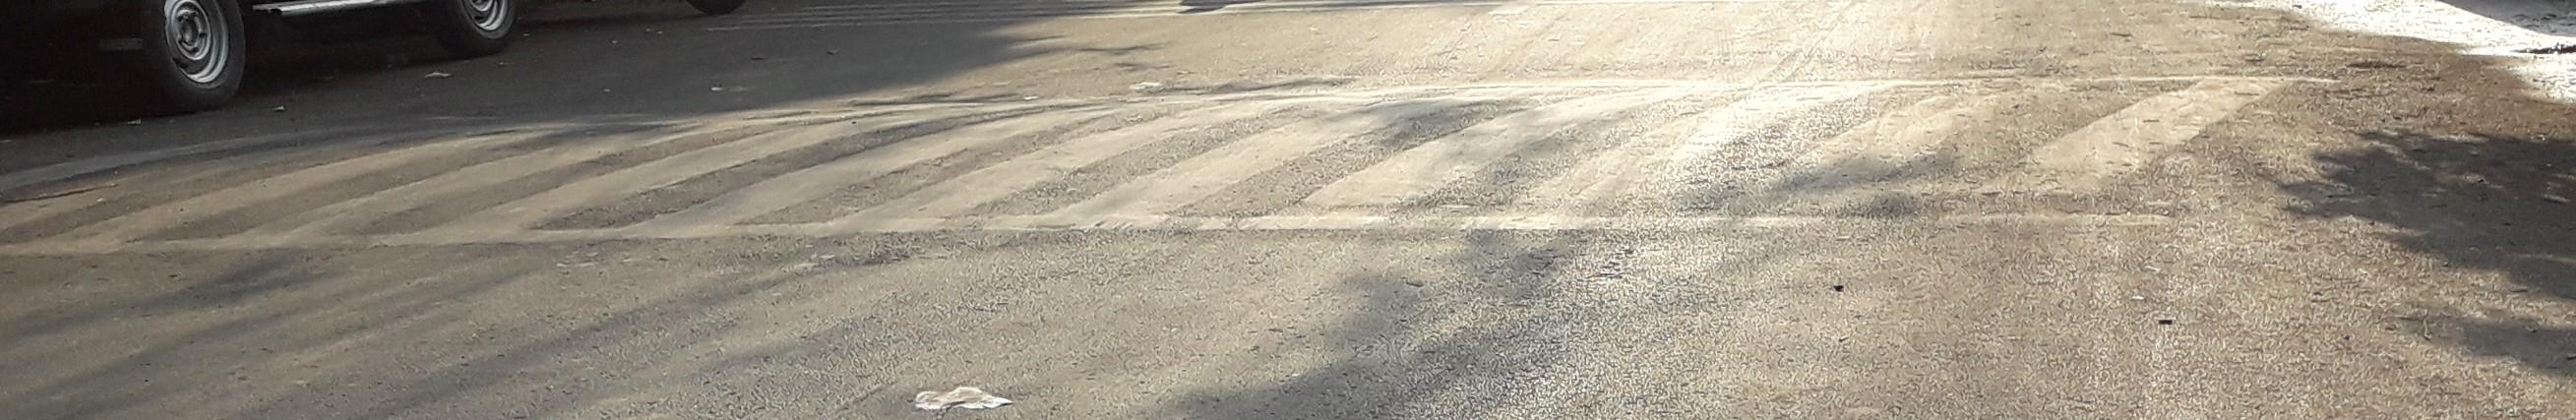speed-bump: (13, 52, 2477, 250)
